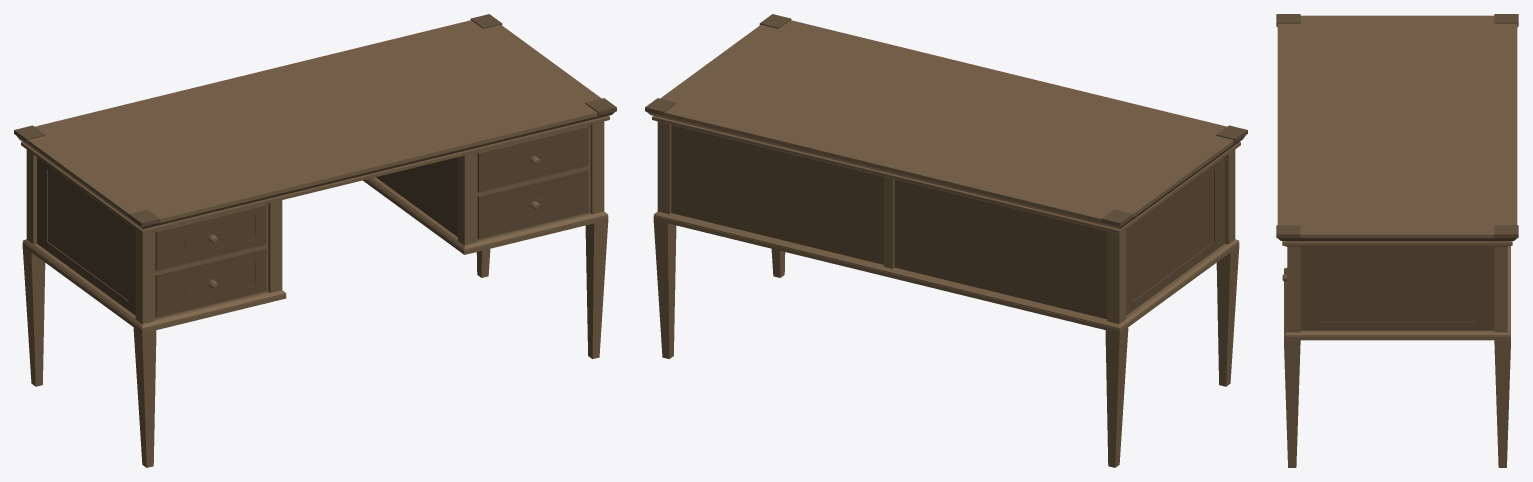
Rendered from desk.glb.
3 views of the same model, side by side, from view 1: azimuth 30°, elevation 25°; view 2: azimuth 150°, elevation 25°; view 3: azimuth 270°, elevation 25° (orthographic). The views are drawn at different scales.
Parts seen in each view (by area): view 1: Desk_Drawer3; view 2: Desk_Drawer3; view 3: Desk_Drawer3.
Part boxes in pixels (bbox=[...]): Desk_Drawer3: bbox=[14, 14, 616, 467]; Desk_Drawer3: bbox=[645, 14, 1247, 467]; Desk_Drawer3: bbox=[1276, 14, 1518, 467].
Size of the model in its own units: 1.82 by 0.9225 by 0.8466.
